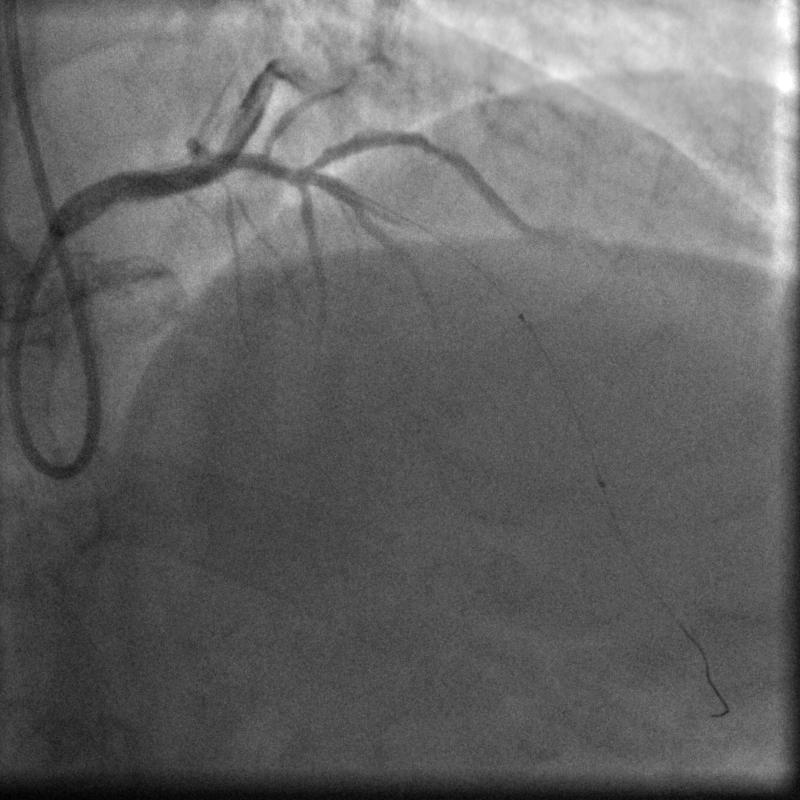Stenosis: (414, 129, 455, 165)
